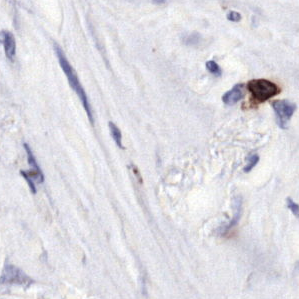Lymphocyte: (246, 77, 283, 102)
